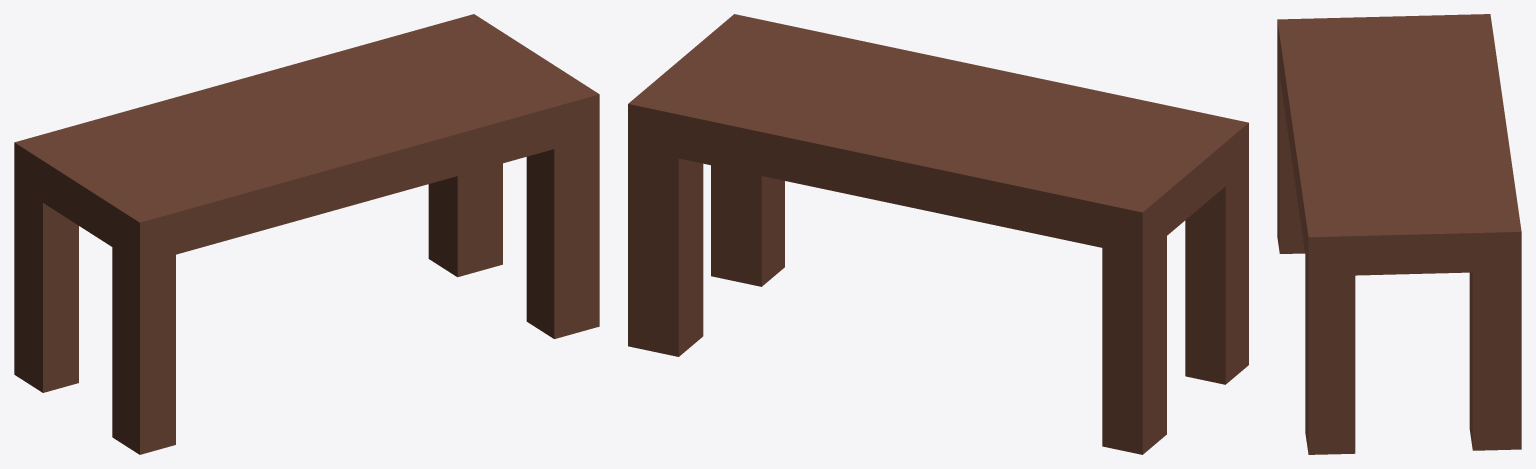
File: Main_Table.fbx
The picture shows the model from 3 angles, left to right: view 1: azimuth 30°, elevation 25°; view 2: azimuth 150°, elevation 25°; view 3: azimuth 270°, elevation 25°; orthographic projection. The views are drawn at different scales.
Parts seen in each view (by area): view 1: Cube.152; view 2: Cube.152; view 3: Cube.152.
Part boxes in pixels (left/top/right/bottom): Cube.152: left=14, top=14, right=599, bottom=454; Cube.152: left=628, top=14, right=1248, bottom=454; Cube.152: left=1277, top=14, right=1521, bottom=454.
Bounding box in the file's own units: 278 × 126 × 128.
